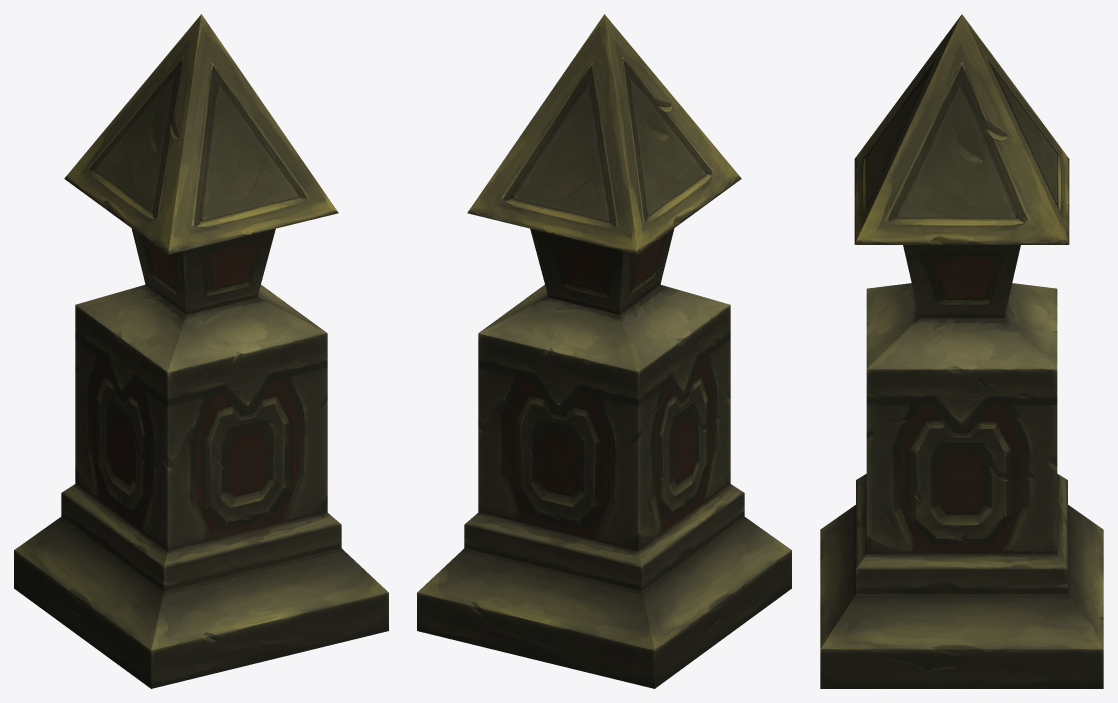
File: PillarShort.dae
3 views of the same model, side by side, from view 1: azimuth 30°, elevation 25°; view 2: azimuth 150°, elevation 25°; view 3: azimuth 270°, elevation 25° (orthographic). The views are drawn at different scales.
Visible parts, largest first — view 1: pillar01_c; view 2: pillar01_c; view 3: pillar01_c.
Boxes of the visible parts, left/top/right/bottom form: pillar01_c: left=14, top=14, right=388, bottom=688; pillar01_c: left=417, top=14, right=791, bottom=688; pillar01_c: left=820, top=14, right=1103, bottom=688.
Bounding box in the file's own units: 1.4 × 1.4 × 3.36.
Materials: 1 (1 with a texture image).
